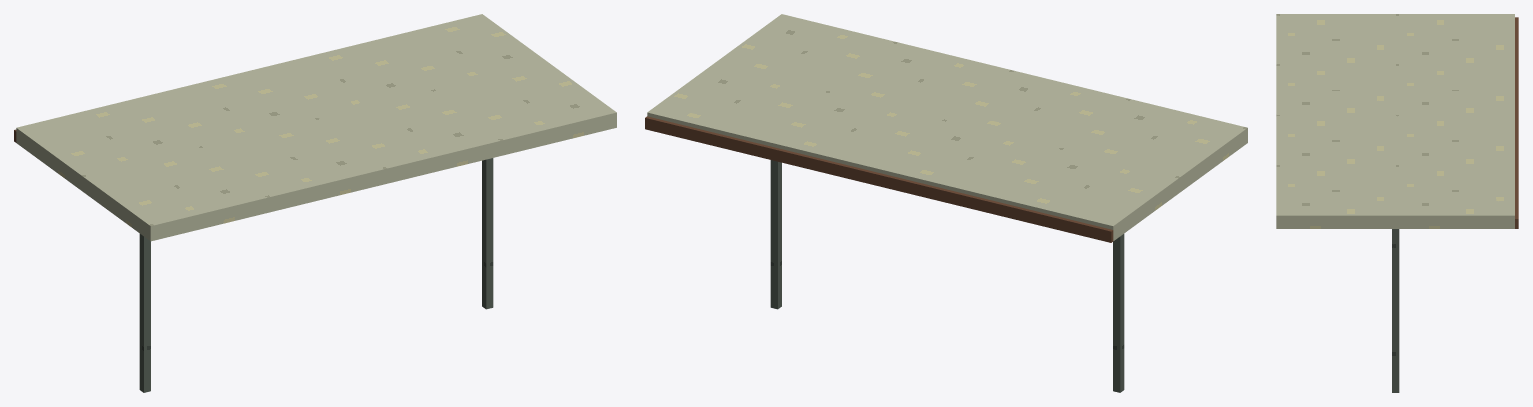
The model's file is gas_canopy.gltf.
3 renders of one model, left to right at view 1: azimuth 30°, elevation 25°; view 2: azimuth 150°, elevation 25°; view 3: azimuth 270°, elevation 25°, orthographic. The views are drawn at different scales.
Visible parts, largest first — view 1: roof, post (×2); view 2: roof, trim, post (×2); view 3: roof, post, trim.
Boxes of the visible parts, box(x1,y1,x2,y2) form: roof: box(16, 14, 616, 241); post (×2): box(139, 158, 493, 392); roof: box(647, 14, 1247, 240); trim: box(645, 116, 1113, 242); post (×2): box(770, 160, 1124, 392); roof: box(1276, 14, 1514, 228); post: box(1392, 229, 1399, 392); trim: box(1515, 17, 1518, 228).
Size of the model in its own units: 8 by 3.75 by 4.06.
3 materials, 3 textured.
